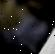with_mask: (1, 2, 55, 54)
